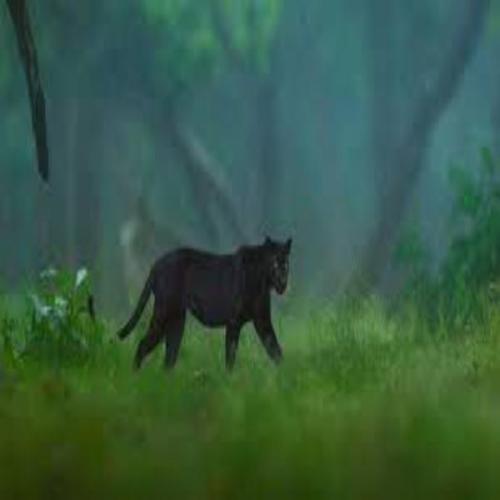panther-endangered: (112, 235, 296, 372)
